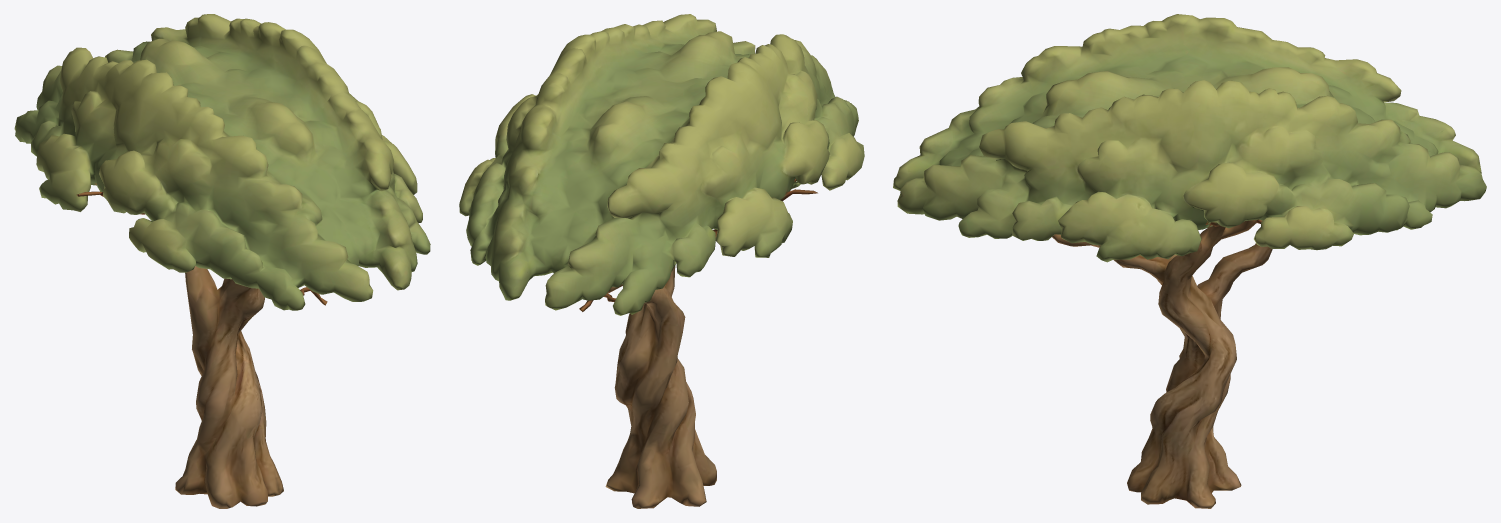
The model's file is acacia.glb.
3 renders of one model, left to right at view 1: azimuth 30°, elevation 25°; view 2: azimuth 150°, elevation 25°; view 3: azimuth 270°, elevation 25°, orthographic.
Parts seen in each view (by area): view 1: tripo_node_ac727a25-6a13-4827-b297-2b836a96b97c; view 2: tripo_node_ac727a25-6a13-4827-b297-2b836a96b97c; view 3: tripo_node_ac727a25-6a13-4827-b297-2b836a96b97c.
Part boxes in pixels (x1,y1,x2,y2): tripo_node_ac727a25-6a13-4827-b297-2b836a96b97c: [14, 14, 430, 508]; tripo_node_ac727a25-6a13-4827-b297-2b836a96b97c: [459, 14, 864, 508]; tripo_node_ac727a25-6a13-4827-b297-2b836a96b97c: [893, 14, 1486, 508].
Size of the model in its own units: 5.77 by 8 by 9.79.
Materials: 1 (1 with a texture image).
